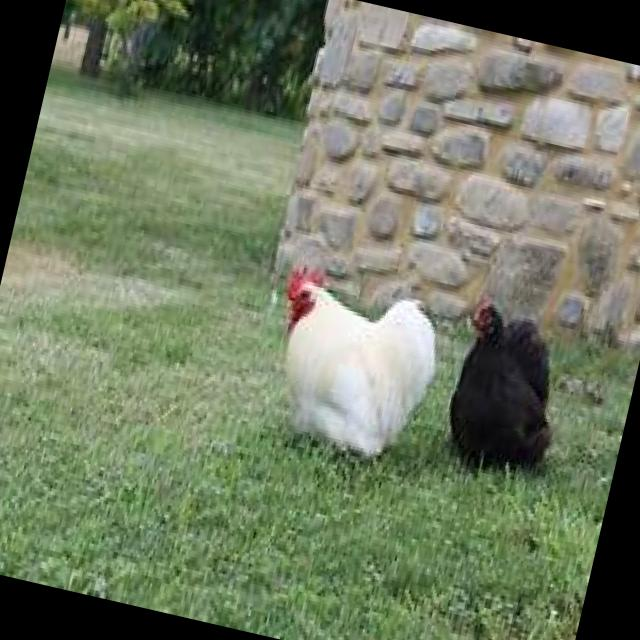chicken: (252, 258, 454, 470), (436, 288, 582, 490)
